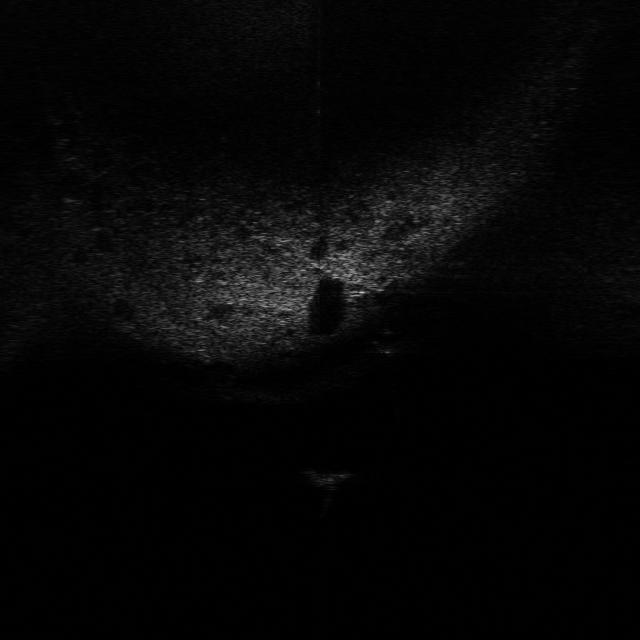ball: (364, 325, 410, 354)
cube: (294, 464, 356, 492)
